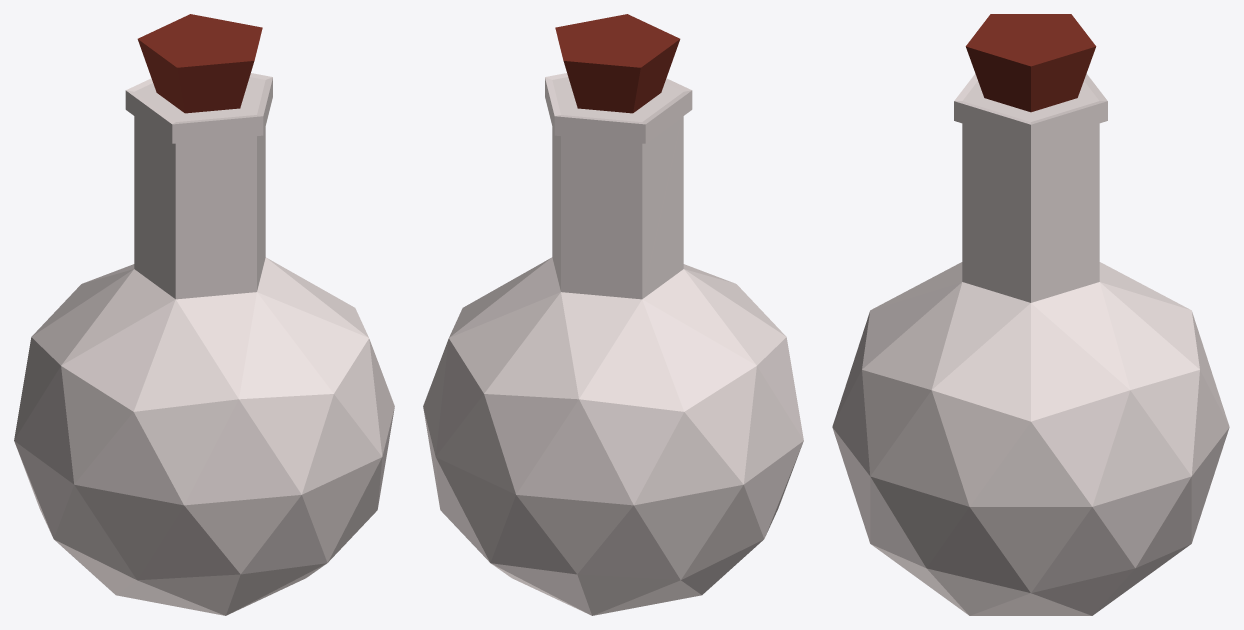
File: potion1.fbx
The picture shows the model from 3 angles, left to right: view 1: azimuth 30°, elevation 25°; view 2: azimuth 150°, elevation 25°; view 3: azimuth 270°, elevation 25°; orthographic projection. The views are drawn at different scales.
Visible parts, largest first — view 1: Pot; view 2: Pot; view 3: Pot.
Part boxes in pixels (x1=…): Pot: x1=14, y1=14, x2=394, y2=615; Pot: x1=423, y1=14, x2=803, y2=615; Pot: x1=832, y1=14, x2=1229, y2=615.
Size of the model in its own units: 200 by 190 by 316.
